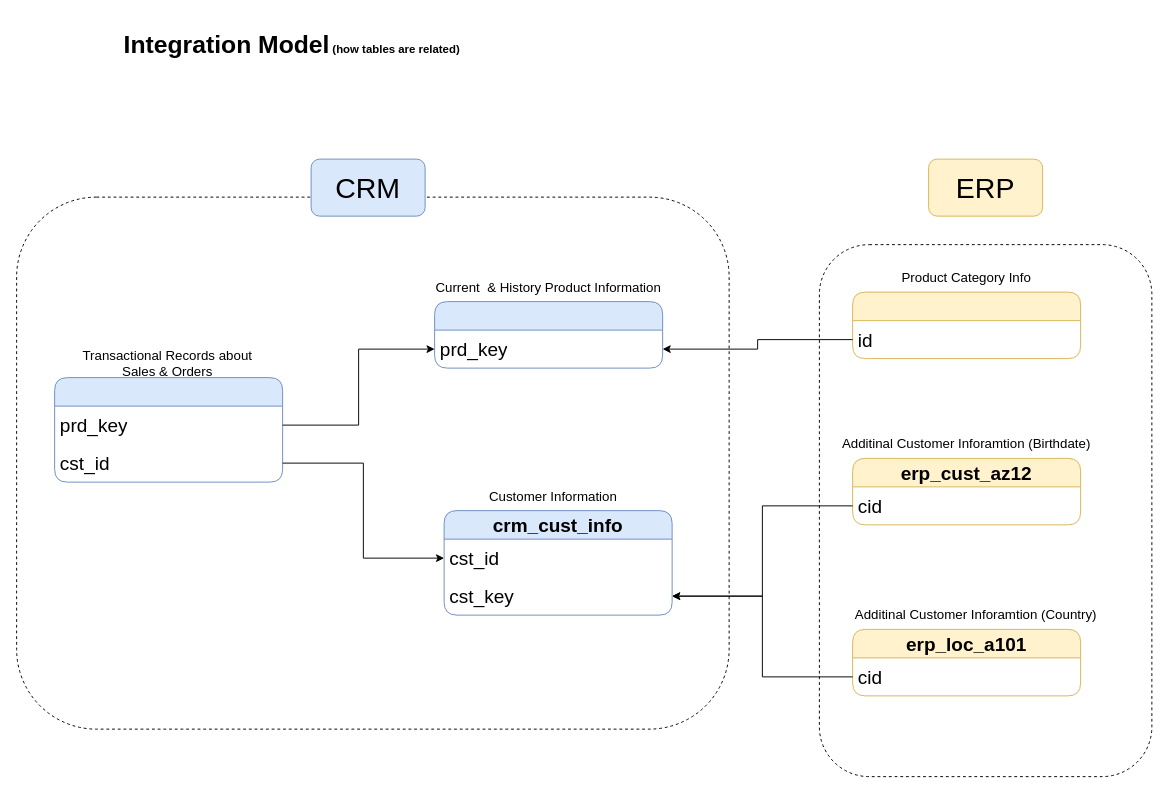
The diagram is 1169 pixels wide and 793 high, and some of its shapes have lost their labels. The shapes that lost their labels are listed below. From the top down, each one's box as (x1, y1, x2, y2) in pixels, then its label:
(434, 301, 663, 368): crm_prd_info
(852, 291, 1081, 359): erp_px_cat_g1v2
(54, 377, 283, 482): crm_sales_details
